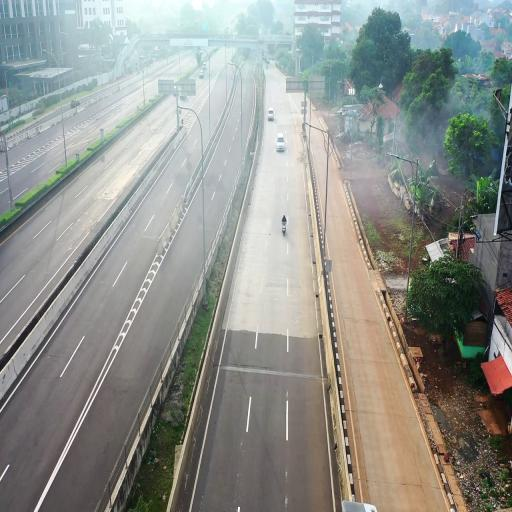vehicle: (276, 134, 286, 154)
